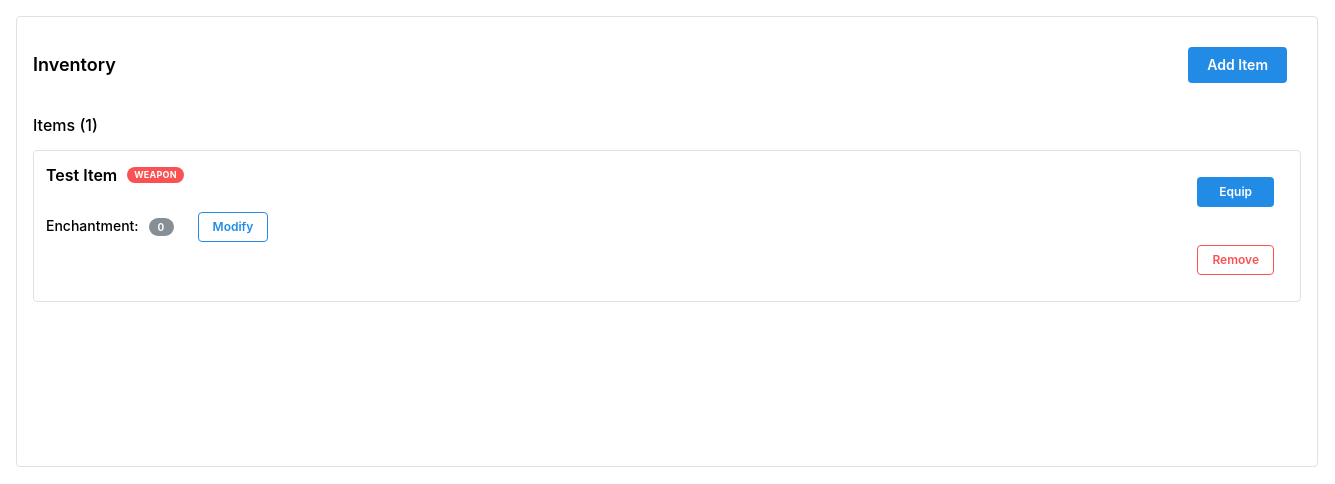
it: InventoryViewer Interaction Tests › should handle item removal without crashing
The width and height of the screenshot is (1335, 484).
Check: the text "Test Item" is shown, box [46,163,117,188]
Find and click the remove button
Click the button "Remove" at (1236, 260), box [1197,245,1274,275]
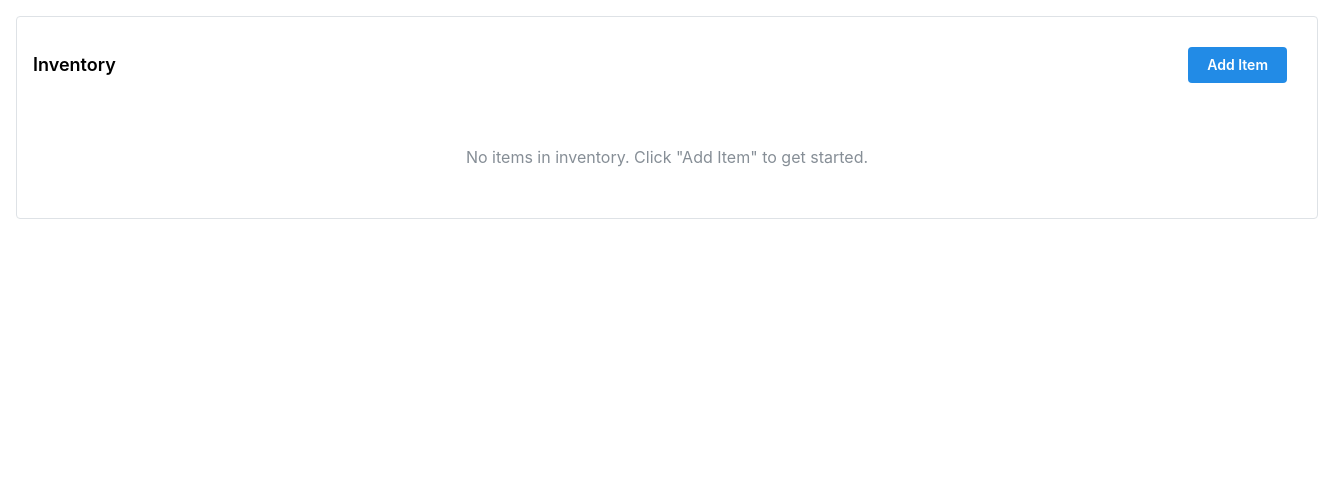
Check: the text "Test Item" is gone
